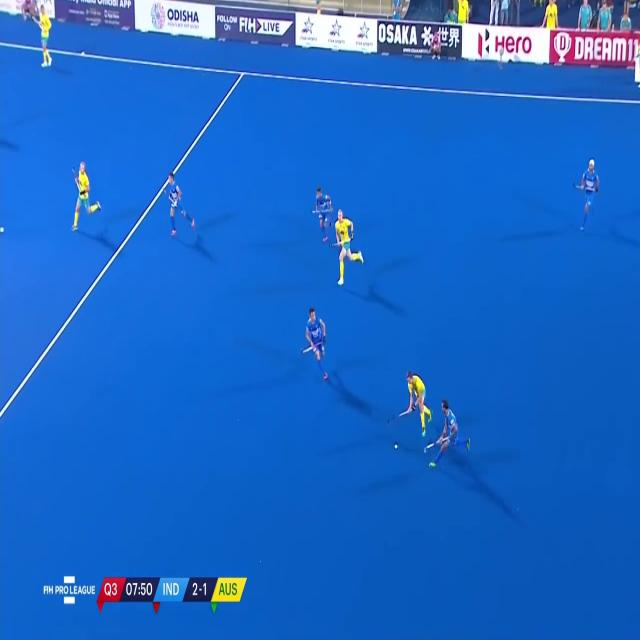ball: (391, 439, 401, 453)
